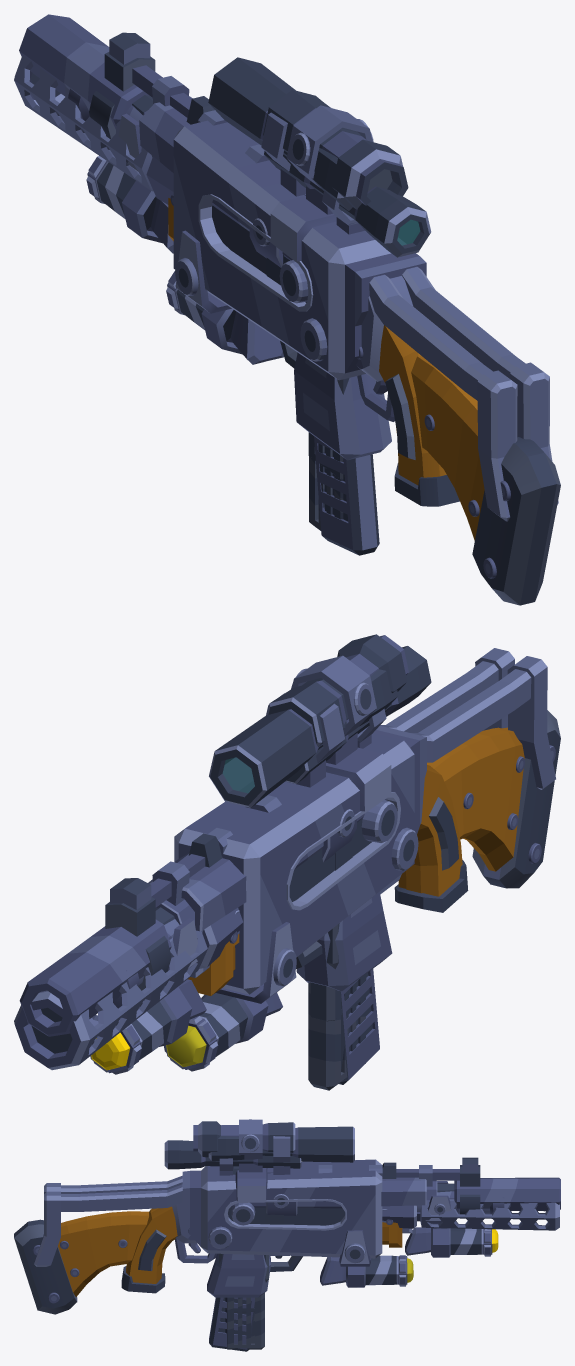
The model's file is Guns.fbx.
The picture shows the model from 3 angles, top to bottom: view 1: azimuth 30°, elevation 25°; view 2: azimuth 150°, elevation 25°; view 3: azimuth 270°, elevation 25°; orthographic projection. The views are drawn at different scales.
Visible parts, largest first — view 1: UziBase, UziMufller, ShotGunSap, ShotGunBase, UziAim, Pistol, PistolAim, Psitolmuffler, UziFonar, PistolPatron, ShotgunAim, ShotgunFonar (+2 smaller); view 2: UziBase, UziMufller, ShotGunSap, UziAim, PistolAim, Pistol, ShotGunBase, Psitolmuffler, UziFonar, ShotgunFonar, UziPatron, PistolPatron (+2 smaller); view 3: UziBase, ShotGunSap, UziMufller, ShotGunBase, Pistol, PistolAim, UziAim, UziFonar, ShotgunFonar, Psitolmuffler, ShotgunAim, UziPatron (+2 smaller).
Part boxes in pixels (left/top/right/bottom): UziBase: left=146, top=120, right=426, bottom=478; UziMufller: left=14, top=55, right=558, bottom=521; ShotGunSap: left=379, top=326, right=560, bottom=605; ShotGunBase: left=68, top=32, right=459, bottom=506; UziAim: left=263, top=89, right=408, bottom=261; Pistol: left=139, top=96, right=391, bottom=460; PistolAim: left=208, top=57, right=352, bottom=267; Psitolmuffler: left=19, top=14, right=153, bottom=129; UziFonar: left=166, top=230, right=284, bottom=364; PistolPatron: left=314, top=436, right=379, bottom=555; ShotgunAim: left=264, top=151, right=431, bottom=257; ShotgunFonar: left=86, top=113, right=173, bottom=253; UziBase: left=174, top=725, right=426, bottom=1021; UziMufller: left=14, top=648, right=555, bottom=1070; ShotGunSap: left=394, top=710, right=560, bottom=912; UziAim: left=267, top=634, right=408, bottom=811; PistolAim: left=209, top=669, right=398, bottom=862; Pistol: left=148, top=799, right=392, bottom=991; ShotGunBase: left=105, top=765, right=467, bottom=1008; Psitolmuffler: left=19, top=907, right=174, bottom=1036; UziFonar: left=164, top=922, right=296, bottom=1071; ShotgunFonar: left=90, top=918, right=206, bottom=1074; UziPatron: left=308, top=982, right=365, bottom=1090; PistolPatron: left=339, top=969, right=379, bottom=1084; UziBase: left=182, top=1159, right=416, bottom=1312; ShotGunSap: left=14, top=1208, right=176, bottom=1314; UziMufller: left=34, top=1175, right=559, bottom=1266; ShotGunBase: left=121, top=1157, right=504, bottom=1293; Pistol: left=207, top=1162, right=426, bottom=1297; PistolAim: left=208, top=1126, right=354, bottom=1215; UziAim: left=193, top=1119, right=295, bottom=1201; UziFonar: left=320, top=1230, right=413, bottom=1287; ShotgunFonar: left=405, top=1181, right=498, bottom=1257; Psitolmuffler: left=437, top=1177, right=560, bottom=1211; ShotgunAim: left=164, top=1140, right=301, bottom=1175; UziPatron: left=225, top=1293, right=264, bottom=1349.
Bounding box in the file's own units: 0.6788 × 2.64 × 5.68.
